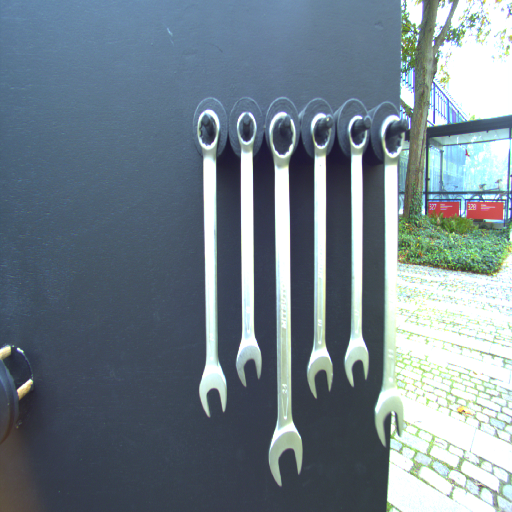bottom: (265, 420, 304, 487), (195, 361, 232, 421), (373, 387, 405, 449), (305, 348, 334, 400), (233, 337, 263, 387), (343, 338, 369, 389)
top: (268, 111, 297, 167), (376, 112, 405, 160), (196, 107, 222, 154), (234, 108, 260, 155), (309, 110, 331, 161), (345, 112, 369, 156)
